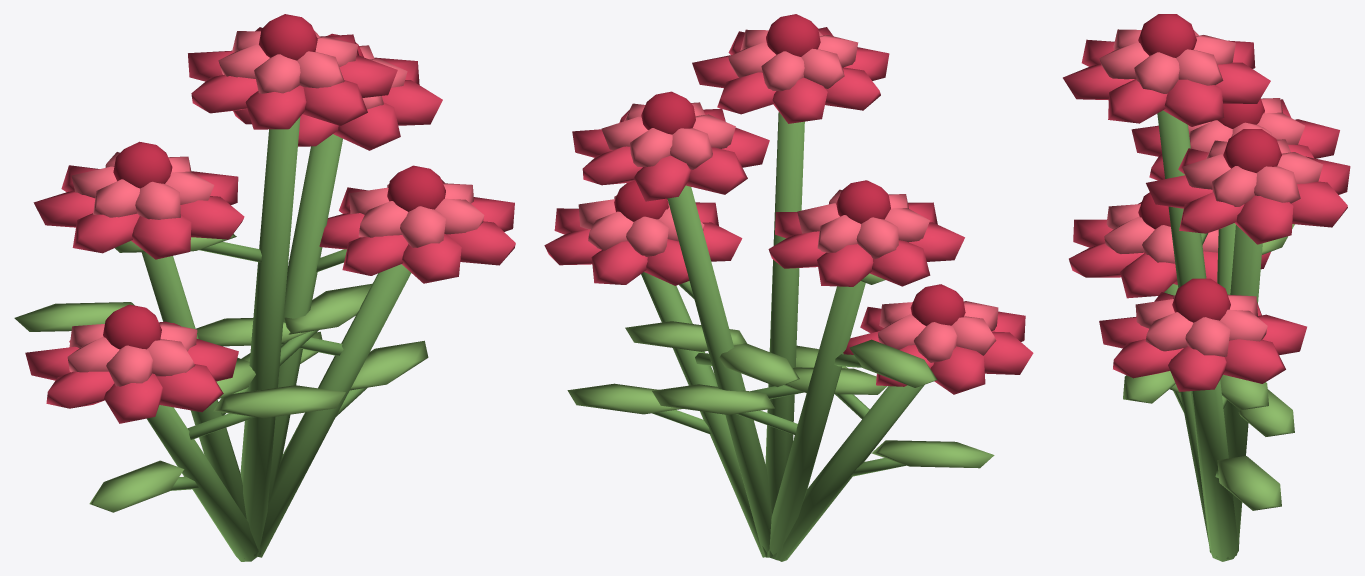
File: Rose.glb
3 views of the same model, side by side, from view 1: azimuth 30°, elevation 25°; view 2: azimuth 150°, elevation 25°; view 3: azimuth 270°, elevation 25° (orthographic). The views are drawn at different scales.
Parts seen in each view (by area): view 1: Rose_Petals_Outer, Rose_Stems, Rose_Petals_Inner, Rose_Leaves, Rose_Centers; view 2: Rose_Stems, Rose_Petals_Outer, Rose_Petals_Inner, Rose_Leaves, Rose_Centers; view 3: Rose_Petals_Outer, Rose_Petals_Inner, Rose_Stems, Rose_Centers, Rose_Leaves.
Part boxes in pixels (bbox=[...]): Rose_Petals_Outer: bbox=[25, 27, 515, 423]; Rose_Stems: bbox=[141, 117, 411, 561]; Rose_Petals_Inner: bbox=[67, 30, 484, 386]; Rose_Leaves: bbox=[14, 234, 428, 512]; Rose_Centers: bbox=[103, 14, 445, 349]; Rose_Stems: bbox=[641, 112, 924, 561]; Rose_Petals_Outer: bbox=[544, 27, 1033, 394]; Rose_Petals_Inner: bbox=[578, 29, 998, 362]; Rose_Leaves: bbox=[567, 273, 994, 468]; Rose_Centers: bbox=[614, 14, 965, 325]; Rose_Petals_Outer: bbox=[1063, 39, 1350, 391]; Rose_Petals_Inner: bbox=[1099, 29, 1323, 356]; Rose_Stems: bbox=[1157, 110, 1262, 561]; Rose_Centers: bbox=[1138, 14, 1281, 322]; Rose_Leaves: bbox=[1123, 224, 1294, 510].
Size of the model in its own units: 0.9749 by 1.06 by 0.5083.
